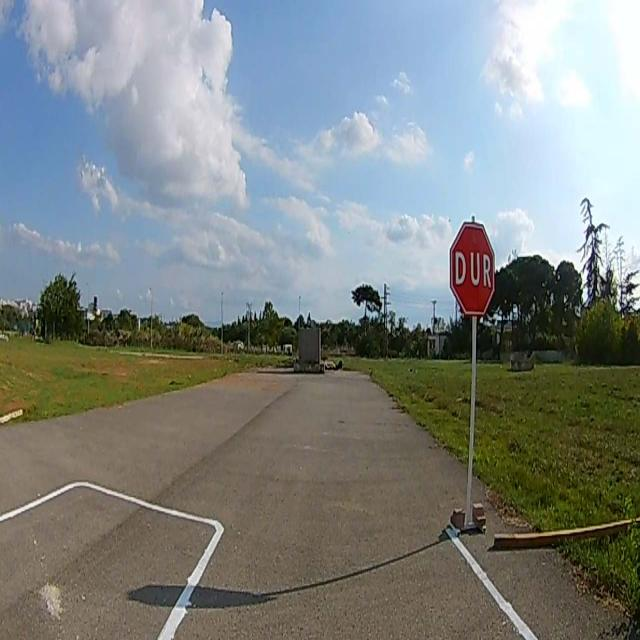dur: (450, 223, 494, 315)
